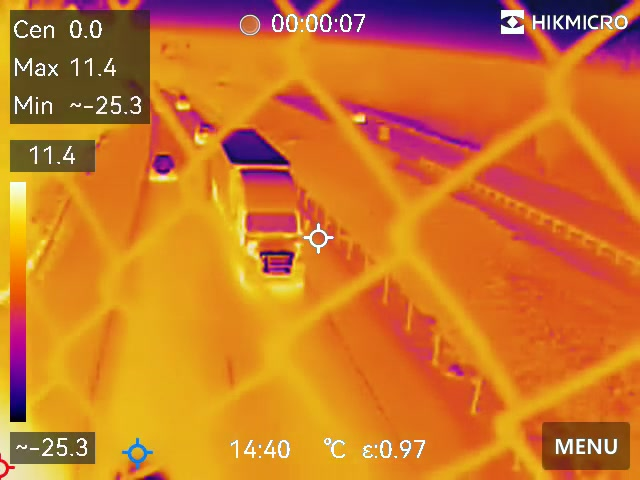heavyTruck: (207, 127, 314, 299)
smallCar: (149, 149, 182, 185), (191, 118, 213, 148)
vehicle: (171, 90, 197, 114)
